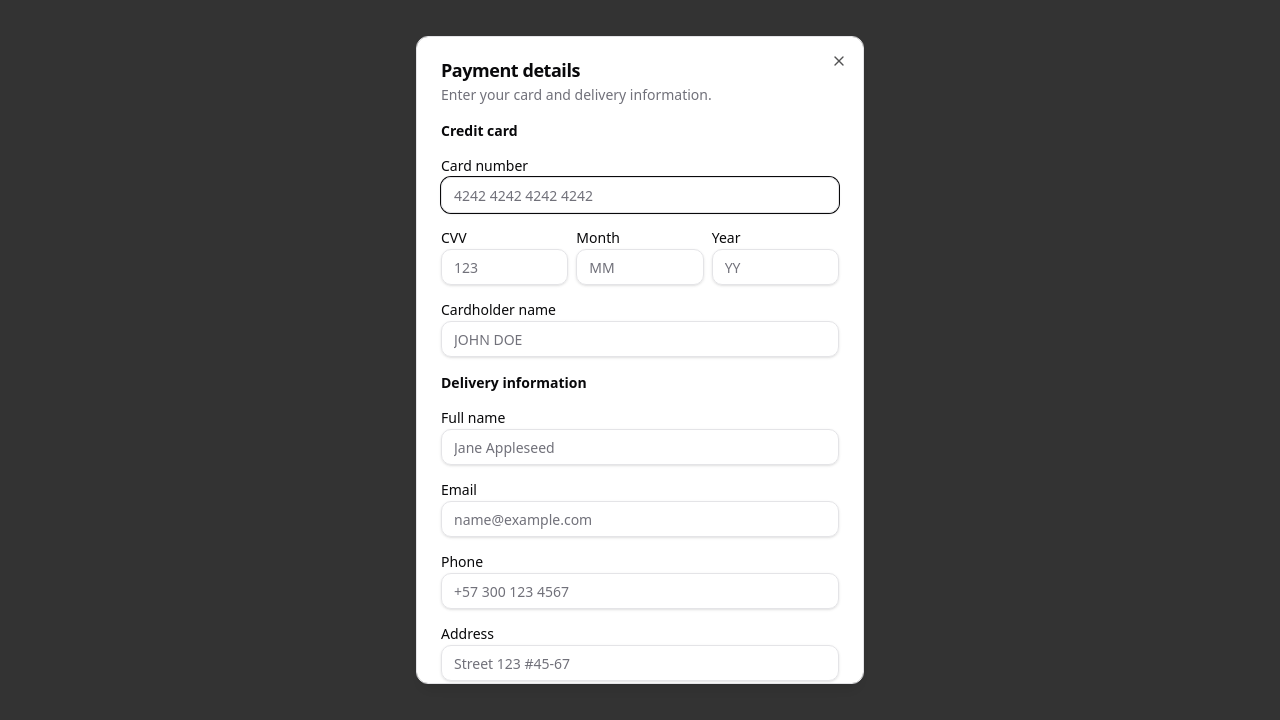
Test: CardDeliveryDialog › formats the card number in groups of four
Type "4242424242424242" into the field labelled "Card number" at (640, 195), box [441,177,839,213]
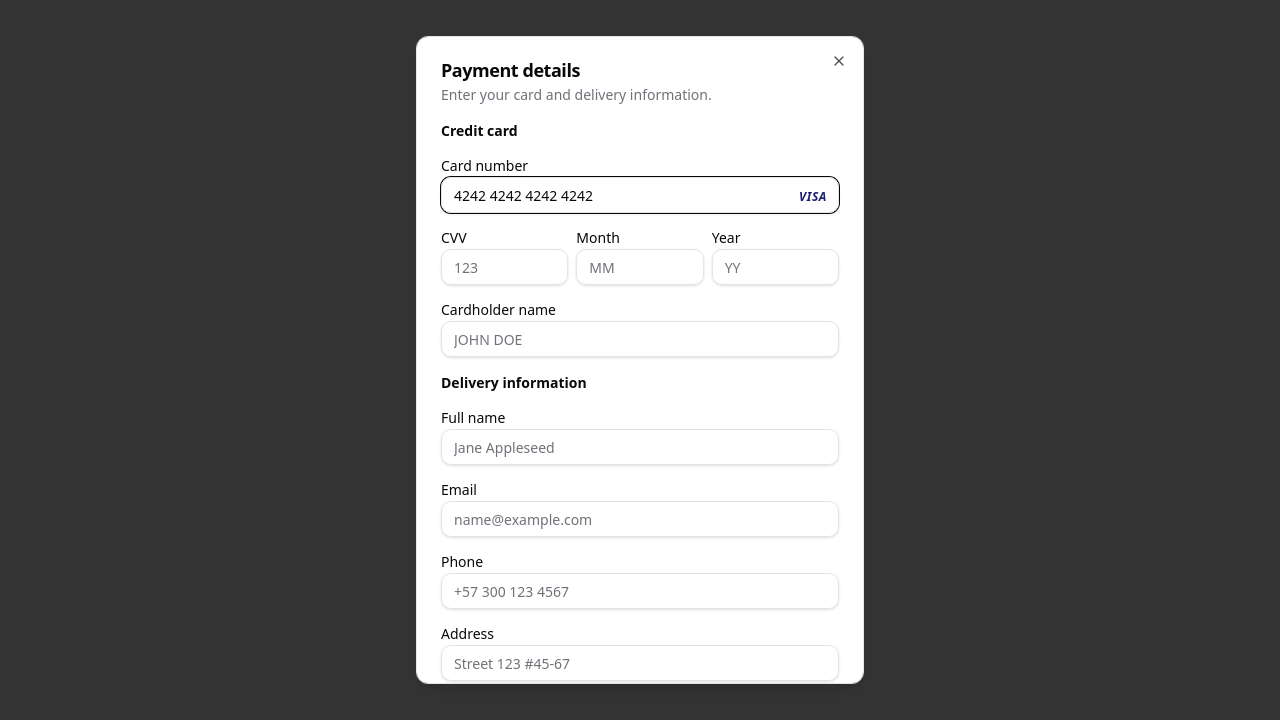
Now the field labelled "Card number" holds "4242 4242 4242 4242", box [441,177,839,213]
